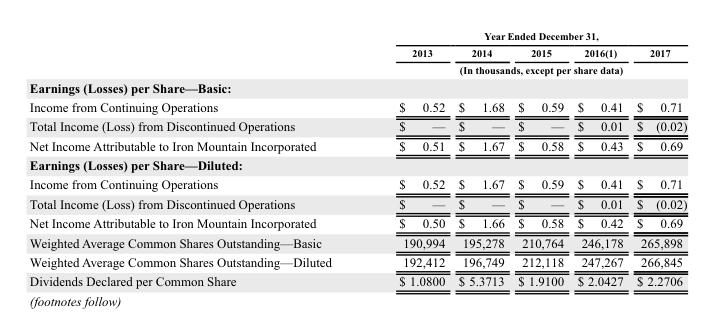table: (28, 28, 686, 289)
table column: (28, 28, 364, 289), (364, 28, 451, 289), (569, 28, 629, 289), (451, 28, 510, 289), (510, 28, 569, 289), (629, 28, 686, 289)
table column header: (28, 28, 686, 77)
table projected row header: (28, 154, 686, 174), (28, 77, 686, 96)
table row: (28, 96, 686, 116), (28, 154, 686, 174), (28, 193, 686, 213), (28, 251, 686, 271), (28, 77, 686, 96), (28, 116, 686, 135), (28, 135, 686, 154), (28, 174, 686, 193), (28, 213, 686, 232), (28, 232, 686, 251), (28, 271, 686, 289), (28, 43, 686, 60), (28, 60, 686, 77), (28, 28, 686, 43)
table spanning cell: (364, 28, 686, 43), (451, 60, 629, 77), (364, 43, 451, 77), (629, 43, 686, 77)
